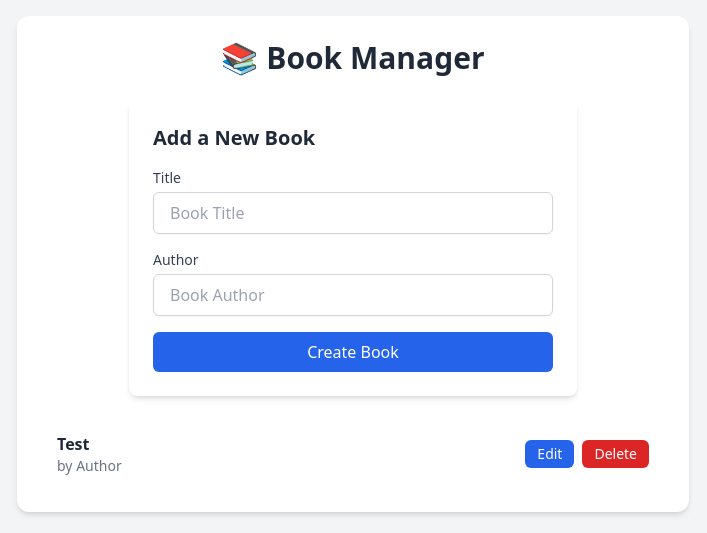
Scenario: Books CRUD using booksApi mock › updates a book
The image size is (707, 533).
Click the button "Edit": (550, 454) [525, 440, 574, 468]
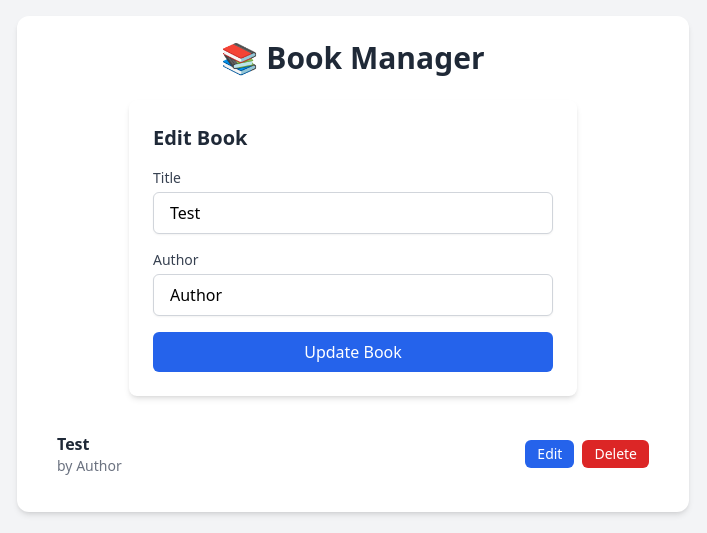
Replace the text in the field with placeholder "Book Title" below "Title" with "Updated": (353, 213) [153, 192, 553, 234]
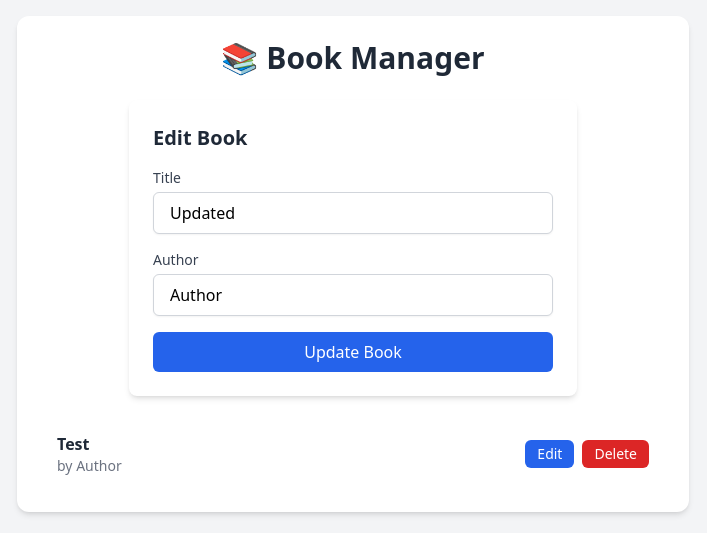
Click the button "Update Book": (353, 352) [153, 332, 553, 372]
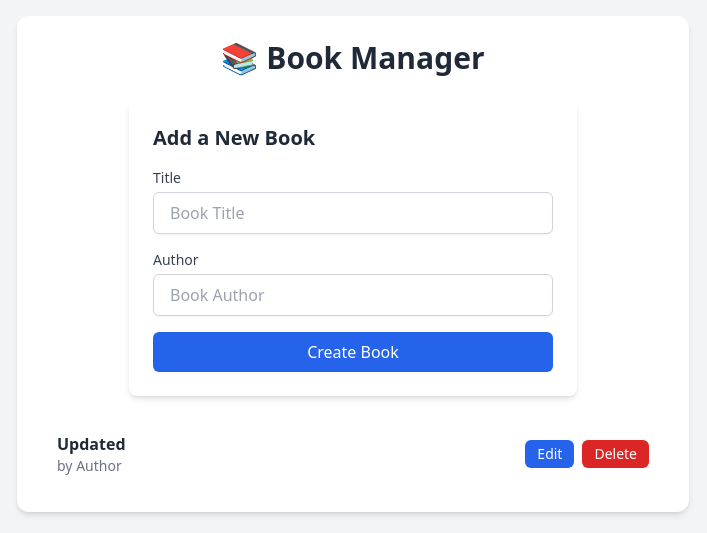
Expected: the text "by Author" is shown, [57, 456, 126, 476]
Expected: the text "Updated" is shown, [57, 432, 126, 456]
